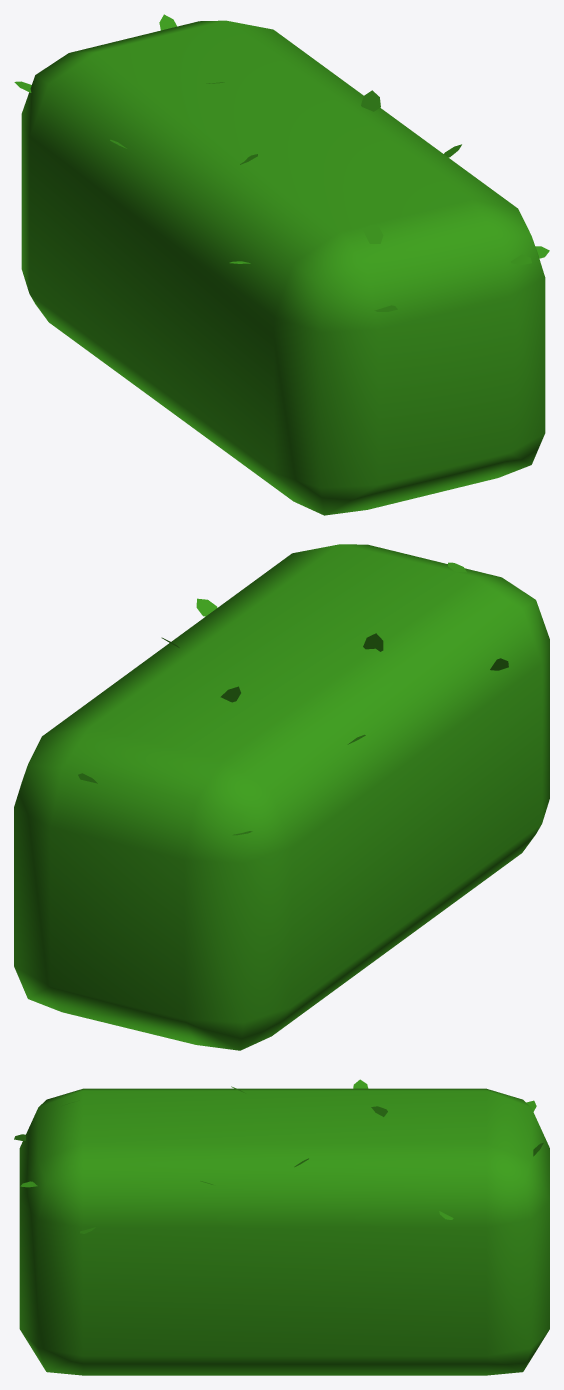
The model's file is Low Bush.fbx.
3 views of the same model, one above another, from view 1: azimuth 30°, elevation 25°; view 2: azimuth 150°, elevation 25°; view 3: azimuth 270°, elevation 25° (orthographic). The views are drawn at different scales.
Visible parts, largest first — view 1: Circle.002; view 2: Circle.002; view 3: Circle.002.
Part boxes in pixels (x1=…): Circle.002: x1=14, y1=14, x2=549, y2=515; Circle.002: x1=14, y1=544, x2=549, y2=1050; Circle.002: x1=14, y1=1079, x2=549, y2=1375.
Size of the model in its own units: 119 by 237 by 107.
